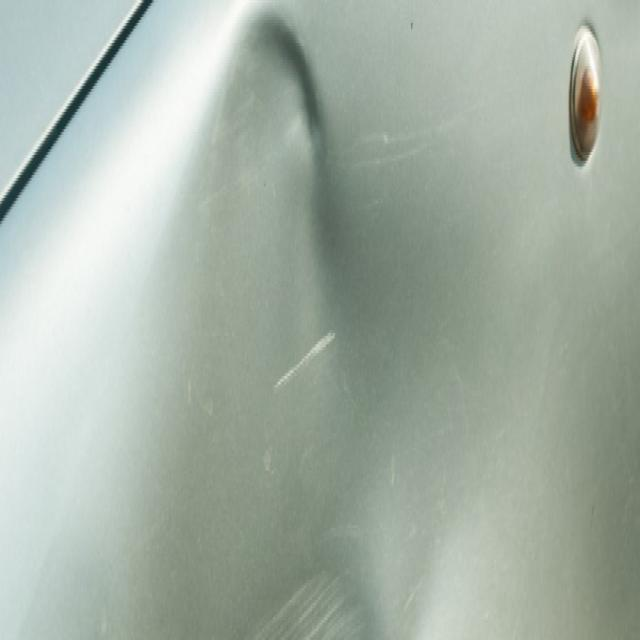dents: (193, 5, 355, 332)
